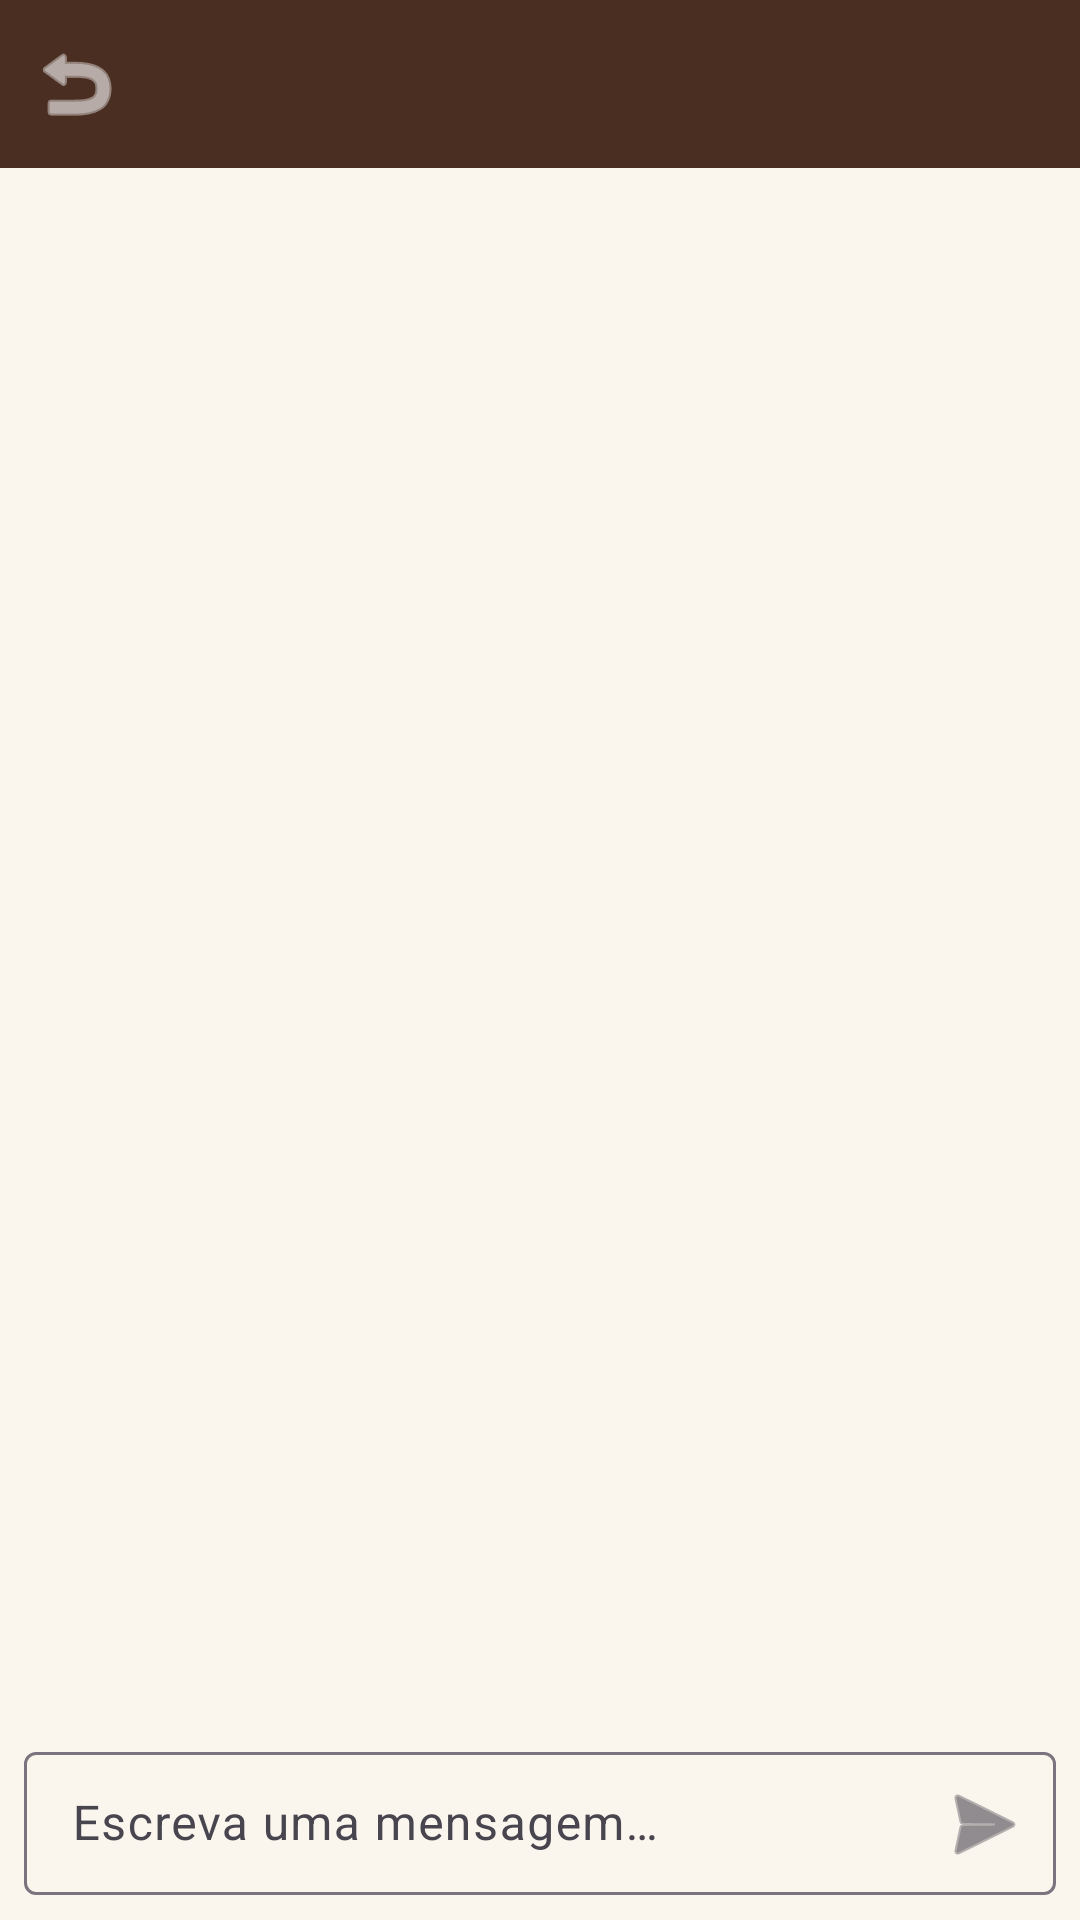

Icon click points for this 1080*1920 phone screenshot, format [x,y]:
Voltar: [77,84]
